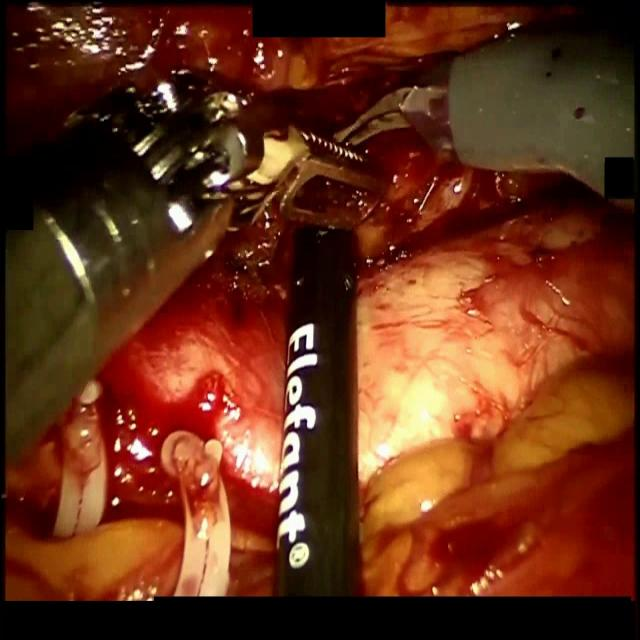surgical-area: (2, 3, 636, 593), (4, 185, 296, 601)
surgical-tool: (2, 80, 390, 469), (331, 35, 634, 215), (272, 228, 358, 595)
